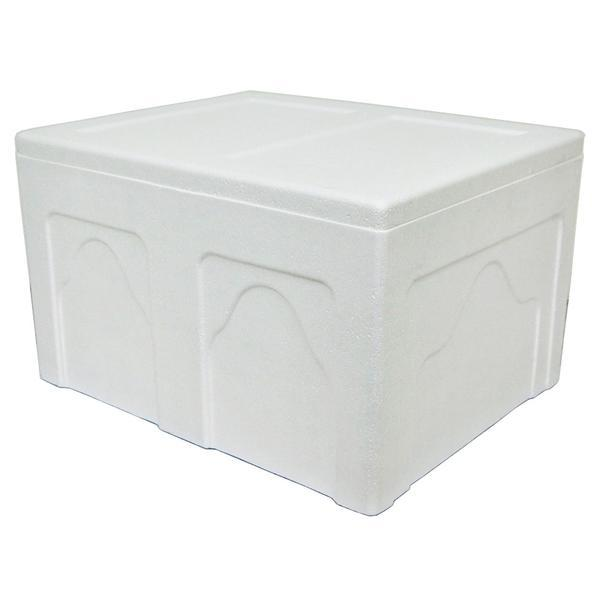PS: (0, 25, 600, 550)
